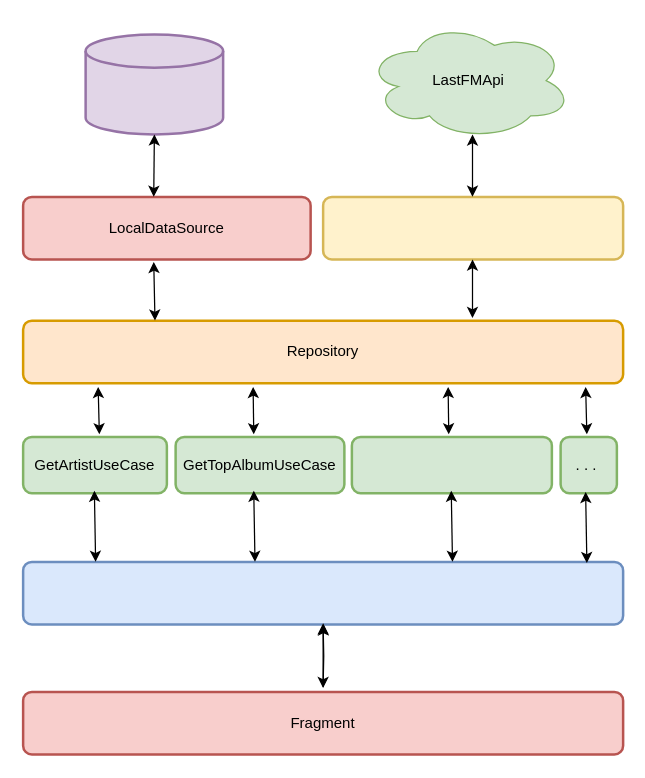
Image size: 645x778. Some labels were removed from this diagram. The shapes that lost their labels are listed below. From the top down, each one's box as (x1, y1, x2, y2) in pixels, then its label:
(84, 32, 224, 135): Room Database
(321, 195, 624, 260): RemoteDataSource
(350, 435, 552, 494): GetAlbumDetailUseCase
(21, 560, 624, 625): ViewModel
